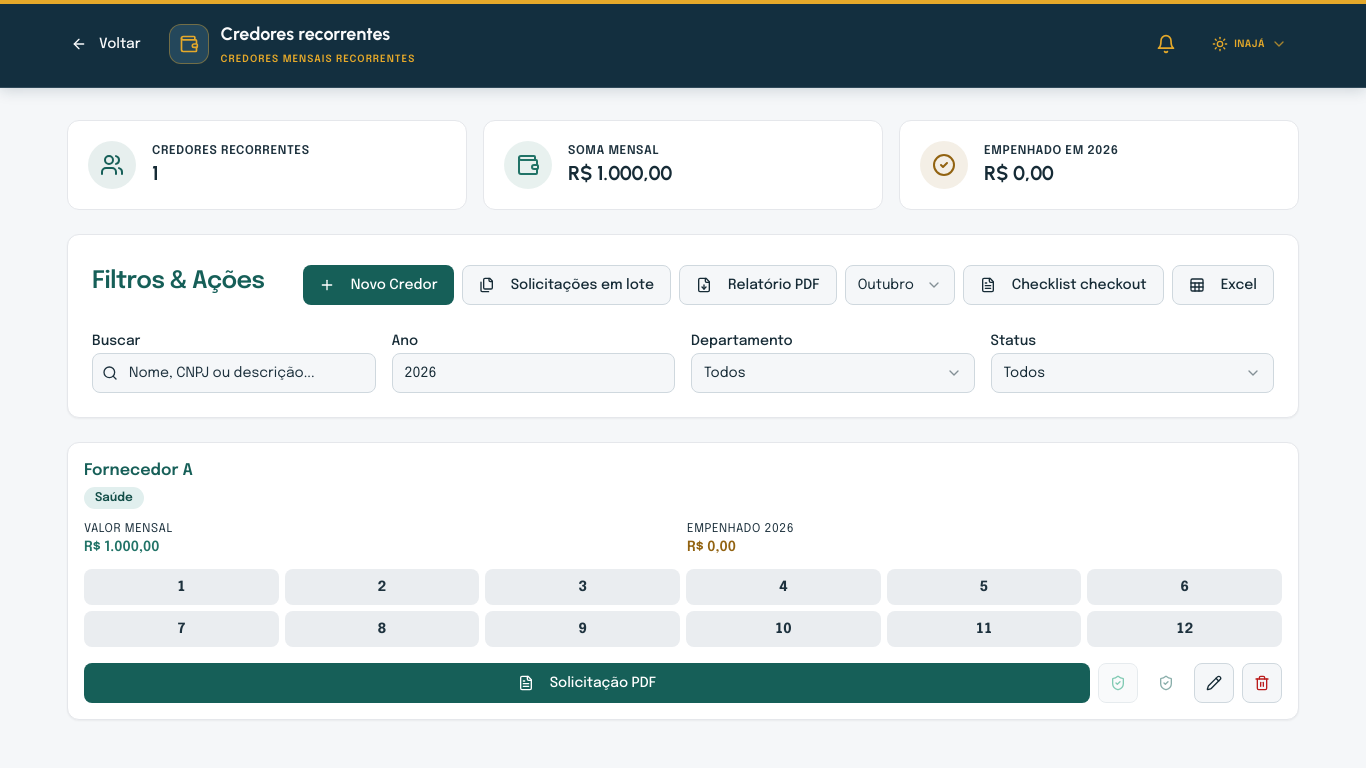
Scenario: CredoresFixos – fluxo principal › abre diálogo de detalhes com botão direito no mês
Expected: the text "Fornecedor A" is shown, [84,459,193,483]
Right-click the checkbox titled "Pendente": [181, 587] box [84,569,279,605]
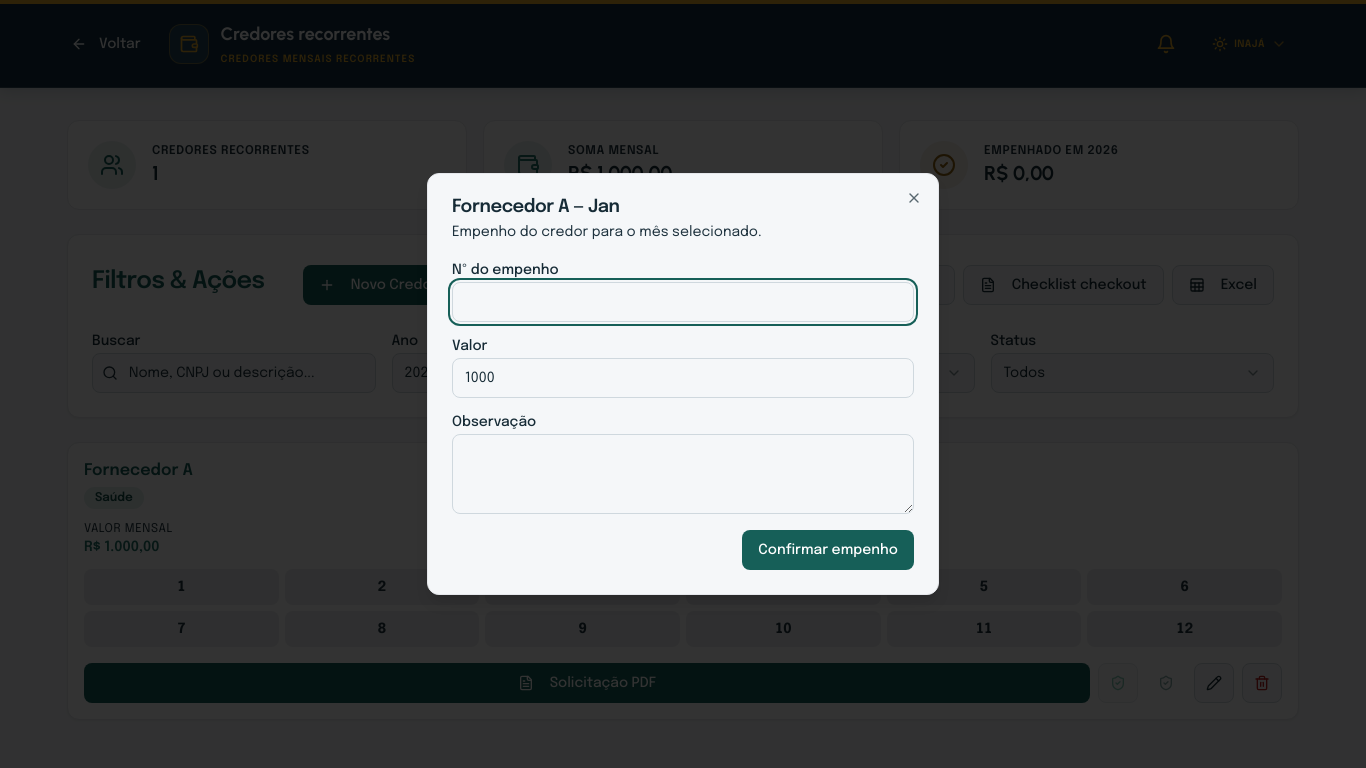
Expected: the heading "Fornecedor A — Jan" is shown, [452,198,619,216]
Expected: the button "Confirmar empenho" is shown, [742,530,914,570]
